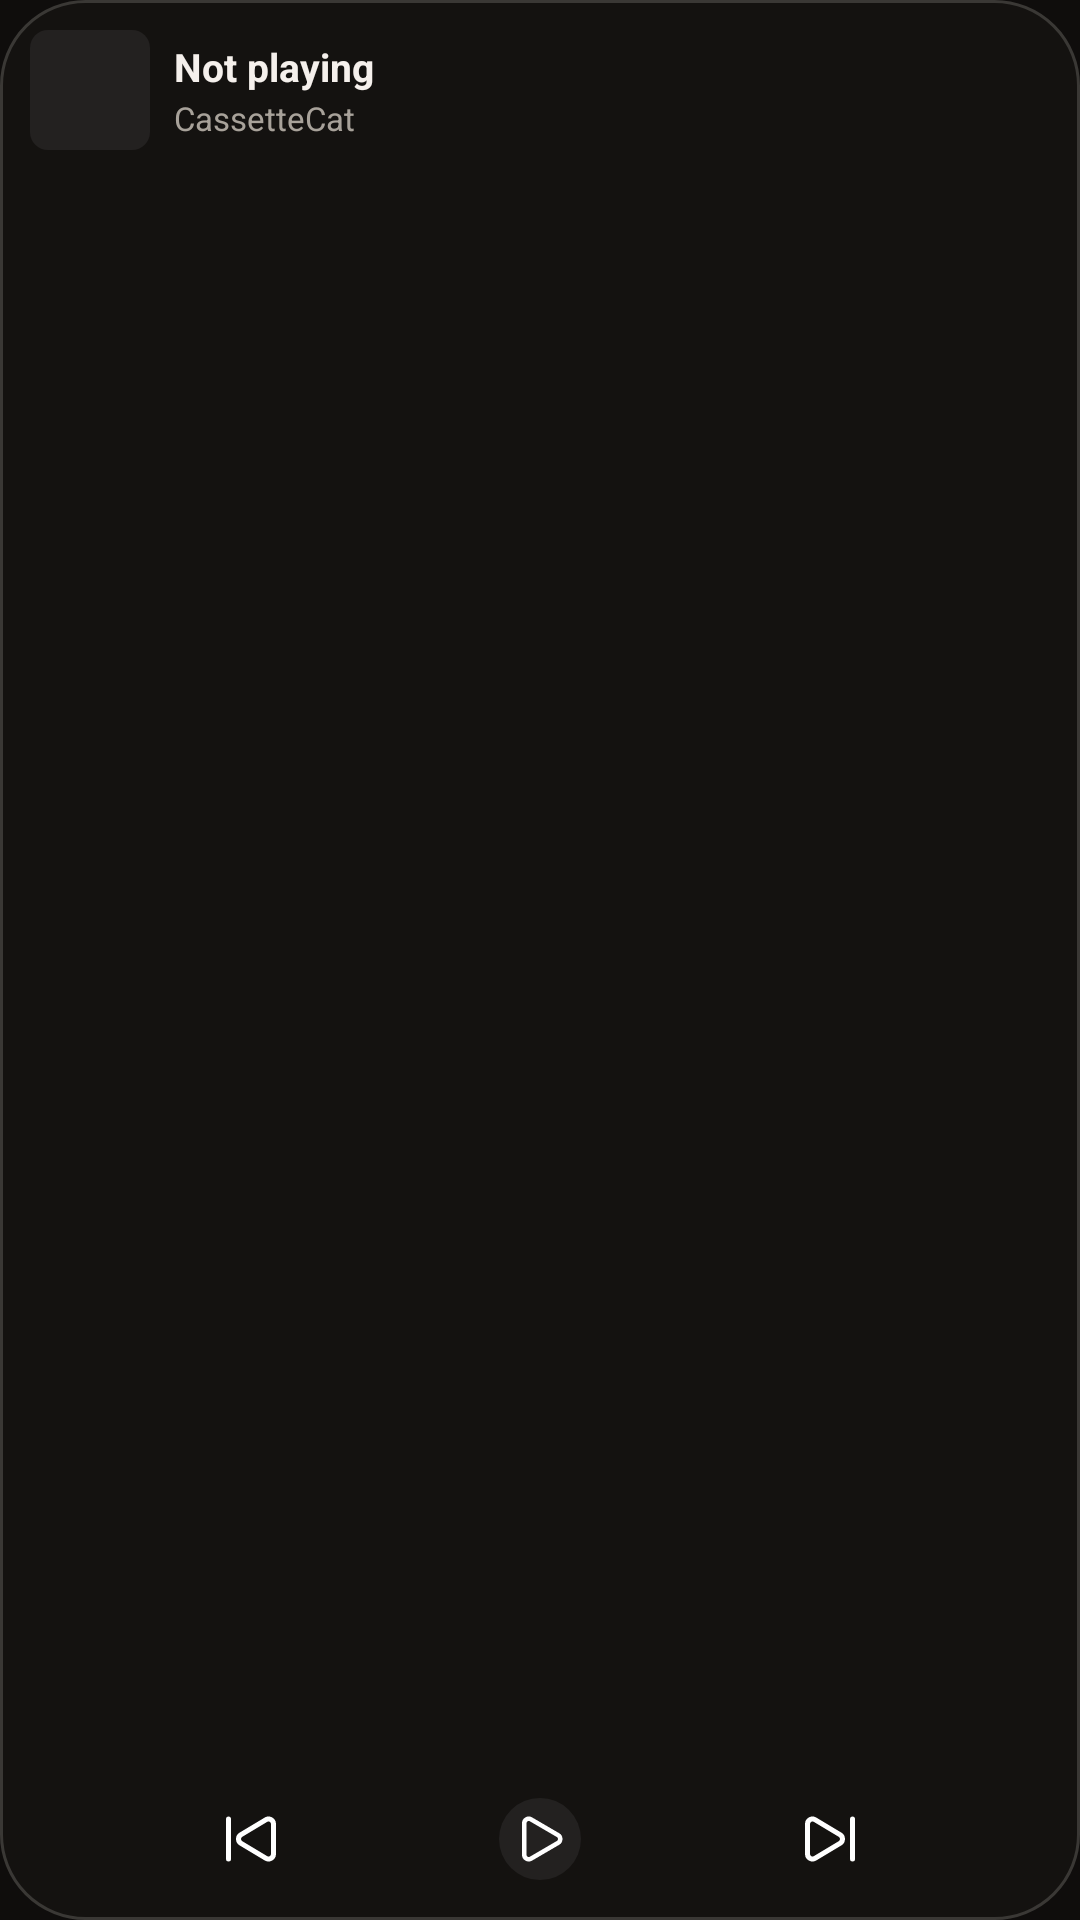

Point at icon controls on the screen. Image size 1080px×1920px, points as (x=x, y=y).
Next: (x=830, y=1839)
Play/Pause: (x=540, y=1839)
Previous: (x=251, y=1839)
